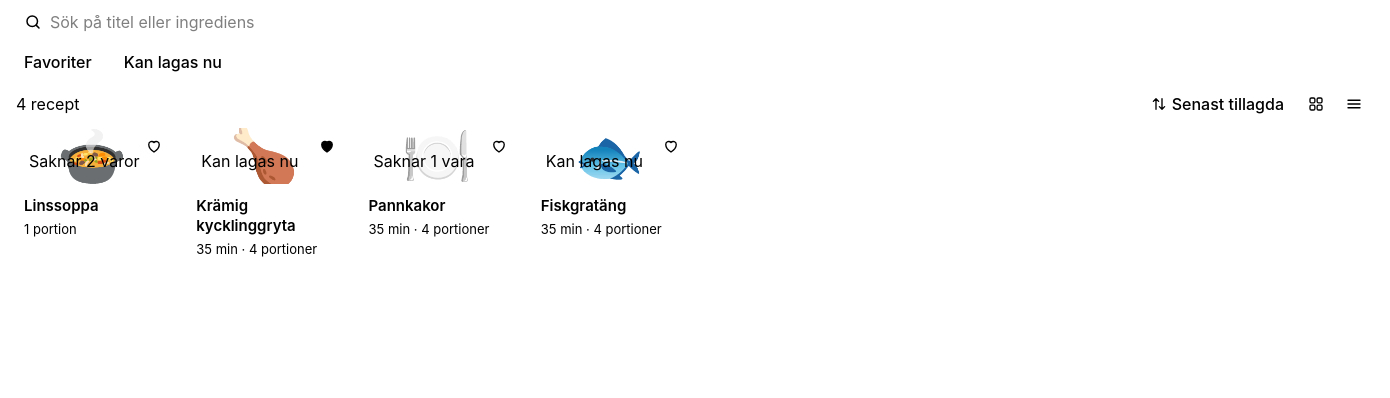
Library, the line Boende › follows the search answer when the server list had no status
Click the button "Kan lagas nu".
click(173, 62)  # box [112,46,234,78]
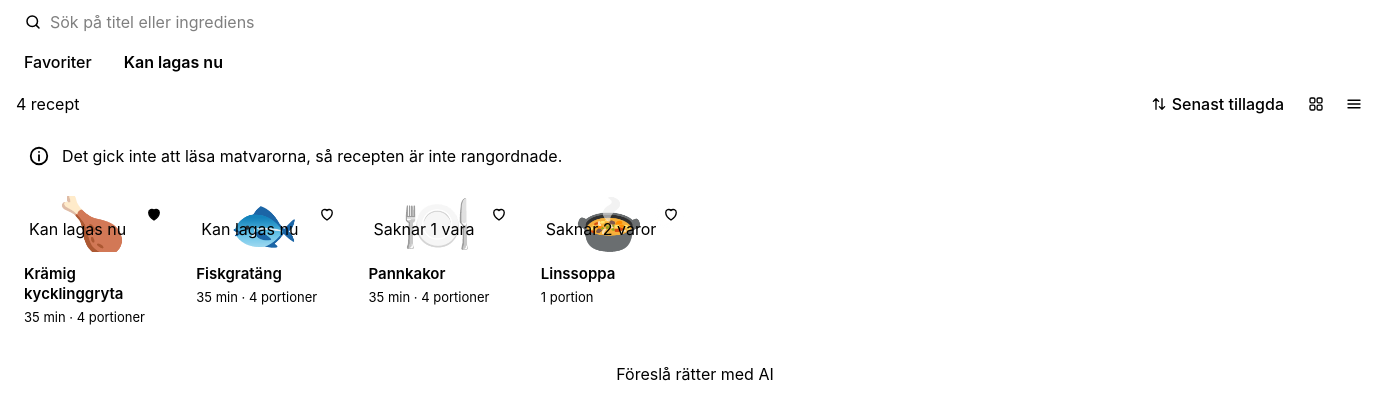
Type "lin" into the search field named "Sök recept".
click(714, 22); type("lin")  # box [50,12,1378,32]
Then press Enter
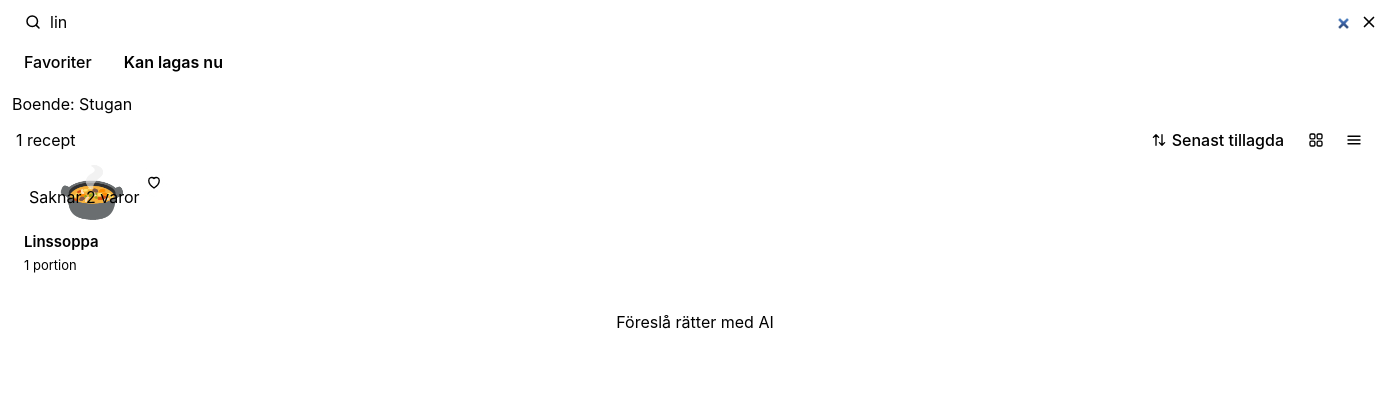
Result: the text "Boende: Stugan" is shown at [12,94,132,114]
